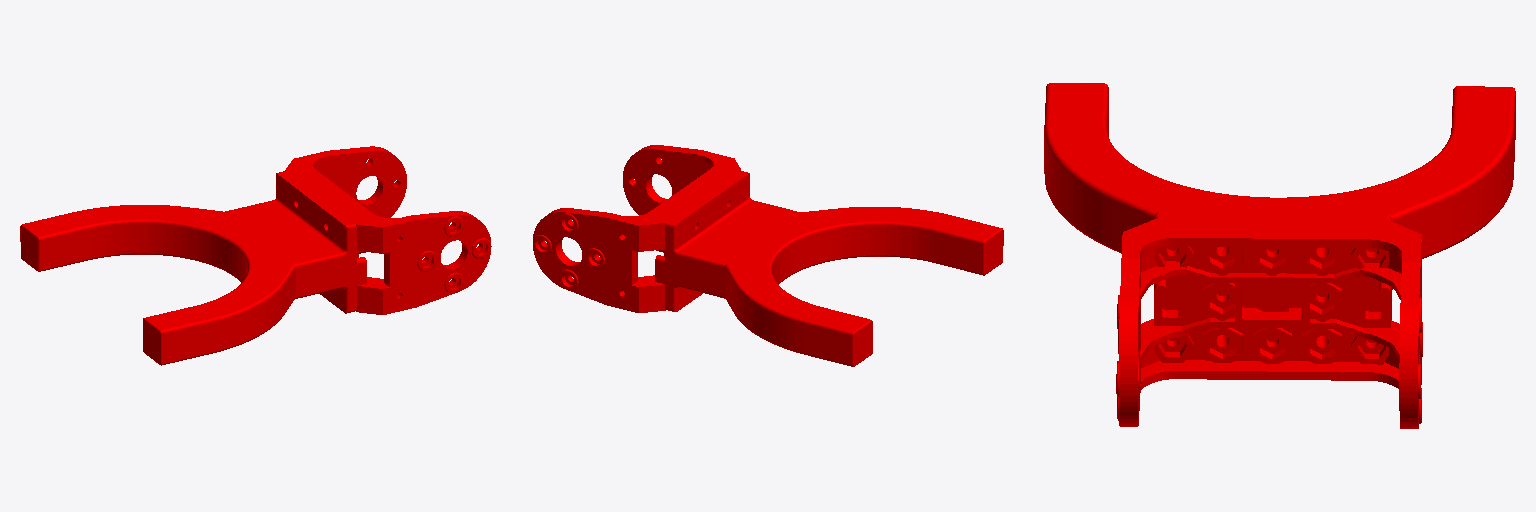
robot.urdf — urdf:
<?xml version="1.0" encoding="utf-8"?>
<!-- This URDF was automatically created by SolidWorks to URDF Exporter! Originally created by [author] ([email redacted]) 
     Commit Version: 1.6.0-4-g7f85cfe  Build Version: 1.6.7995.38578
     For more information, please see http://wiki.ros.org/sw_urdf_exporter -->
<robot
  name="urdf">
  <link name="dummy">
   </link>
   <joint name="dummy_joint" type="fixed">
     <parent link="dummy"/>
     <child link="base_link"/>
   </joint>
  <link
    name="base_link">
    <inertial>
      <origin
        xyz="-0.046982 0.0003924 -0.084365"
        rpy="0 0 0" />
      <mass
        value="0.22451" />
      <inertia
        ixx="0.00026644"
        ixy="1.0716E-06"
        ixz="5.8747E-05"
        iyy="0.00036767"
        iyz="-5.8394E-07"
        izz="0.00019621" />
    </inertial>
    <visual>
      <origin
        xyz="0 0 0"
        rpy="0 0 0" />
      <geometry>
        <mesh
          filename="package://arm_description/meshes/base_link.STL" />
      </geometry>
      <material
        name="">
        <color
          rgba="0 0 128 1" />
      </material>
    </visual>
    <collision>
      <origin
        xyz="0 0 0"
        rpy="0 0 0" />
      <geometry>
        <mesh
          filename="package://arm_description/meshes/base_link.STL" />
      </geometry>
    </collision>
  </link>
  <link
    name="link_1">
    <inertial>
      <origin
        xyz="0.064267 -5.2794E-08 -0.002732"
        rpy="0 0 0" />
      <mass
        value="0.031709" />
      <inertia
        ixx="5.3604E-06"
        ixy="-3.8821E-10"
        ixz="1.1495E-07"
        iyy="2.0553E-05"
        iyz="-3.3881E-11"
        izz="1.7224E-05" />
    </inertial>
    <visual>
      <origin
        xyz="0 0 0"
        rpy="0 0 0" />
      <geometry>
        <mesh
          filename="package://arm_description/meshes/link_1.STL" />
      </geometry>
      <material
        name="">
        <color
          rgba="0 175 0 1" />
      </material>
    </visual>
    <collision>
      <origin
        xyz="0 0 0"
        rpy="0 0 0" />
      <geometry>
        <mesh
          filename="package://arm_description/meshes/link_1.STL" />
      </geometry>
    </collision>
  </link>
  <joint
    name="joint_1"
    type="revolute">
    <origin
      xyz="0 0 0"
      rpy="0 0 0" />
    <parent
      link="base_link" />
    <child
      link="link_1" />
    <axis
      xyz="0 0 1" />
    <limit
      lower="-1.57079632"
      upper="1.57079632"
      effort="0"
      velocity="0" />
  </joint>
  <link
    name="link_2">
    <inertial>
      <origin
        xyz="0.068294 0.00064407 -0.0033292"
        rpy="0 0 0" />
      <mass
        value="0.035007" />
      <inertia
        ixx="5.931E-06"
        ixy="-1.0421E-10"
        ixz="2.9697E-07"
        iyy="2.1337E-05"
        iyz="3.9244E-11"
        izz="1.8561E-05" />
    </inertial>
    <visual>
      <origin
        xyz="0 0 0"
        rpy="0 0 0" />
      <geometry>
        <mesh
          filename="package://arm_description/meshes/link_2.STL" />
      </geometry>
      <material
        name="">
        <color
          rgba="220 220 0 1" />
      </material>
    </visual>
    <collision>
      <origin
        xyz="0 0 0"
        rpy="0 0 0" />
      <geometry>
        <mesh
          filename="package://arm_description/meshes/link_2.STL" />
      </geometry>
    </collision>
  </link>
  <joint
    name="joint_2"
    type="revolute">
    <origin
      xyz="0.15 0 0"
      rpy="0 0 0" />
    <parent
      link="link_1" />
    <child
      link="link_2" />
    <axis
      xyz="0 0 1" />
    <limit
      lower="-1.57079632"
      upper="1.57079632"
      effort="0"
      velocity="0" />
  </joint>
  <link
    name="link_3">
    <inertial>
      <origin
        xyz="0.043073 5.7658E-07 8.3473E-10"
        rpy="0 0 0" />
      <mass
        value="0.028941" />
      <inertia
        ixx="1.3191E-05"
        ixy="-1.6679E-10"
        ixz="5.0738E-13"
        iyy="2.1452E-05"
        iyz="4.2839E-13"
        izz="9.7312E-06" />
    </inertial>
    <visual>
      <origin
        xyz="0 0 0"
        rpy="0 0 0" />
      <geometry>
        <mesh
          filename="package://arm_description/meshes/link_3.STL" />
      </geometry>
      <material
        name="">
        <color
          rgba="200 0 0 1" />
      </material>
    </visual>
    <collision>
      <origin
        xyz="0 0 0"
        rpy="0 0 0" />
      <geometry>
        <mesh
          filename="package://arm_description/meshes/link_3.STL" />
      </geometry>
    </collision>
  </link>
  <joint
    name="joint_3"
    type="revolute">
    <origin
      xyz="0.15 0 0"
      rpy="1.57079632 0 0" />
    <parent
      link="link_2" />
    <child
      link="link_3" />
    <axis
      xyz="0 0 1" />
    <limit
      lower="-1.57079632"
      upper="1.57079632"
      effort="0"
      velocity="0" />
  </joint>
</robot>

--- What the picture shows (computed from the rendered views, not written in the file) ---
Views: 3 orthographic renders of the robot side by side, from view 1: azimuth 30°, elevation 25°; view 2: azimuth 150°, elevation 25°; view 3: azimuth 270°, elevation 25°.
Robot: urdf — 5 links, 4 joints (3 revolute, 1 fixed); root link dummy; default pose: every joint at zero.
Visible links, largest first — view 1: link_3; view 2: link_3; view 3: link_3.
Boxes of the visible links, bbox=[...] form: link_3: bbox=[20, 146, 491, 365]; link_3: bbox=[533, 145, 1003, 366]; link_3: bbox=[1044, 83, 1515, 428].
Bounding box of the posed robot: 0.1061 × 0.0755 × 0.025 m (x, y, z).
1 mesh visuals loaded from 4 distinct referenced files (1 binary STL); not drawn: 3 (reference not matched to a file when rendering).